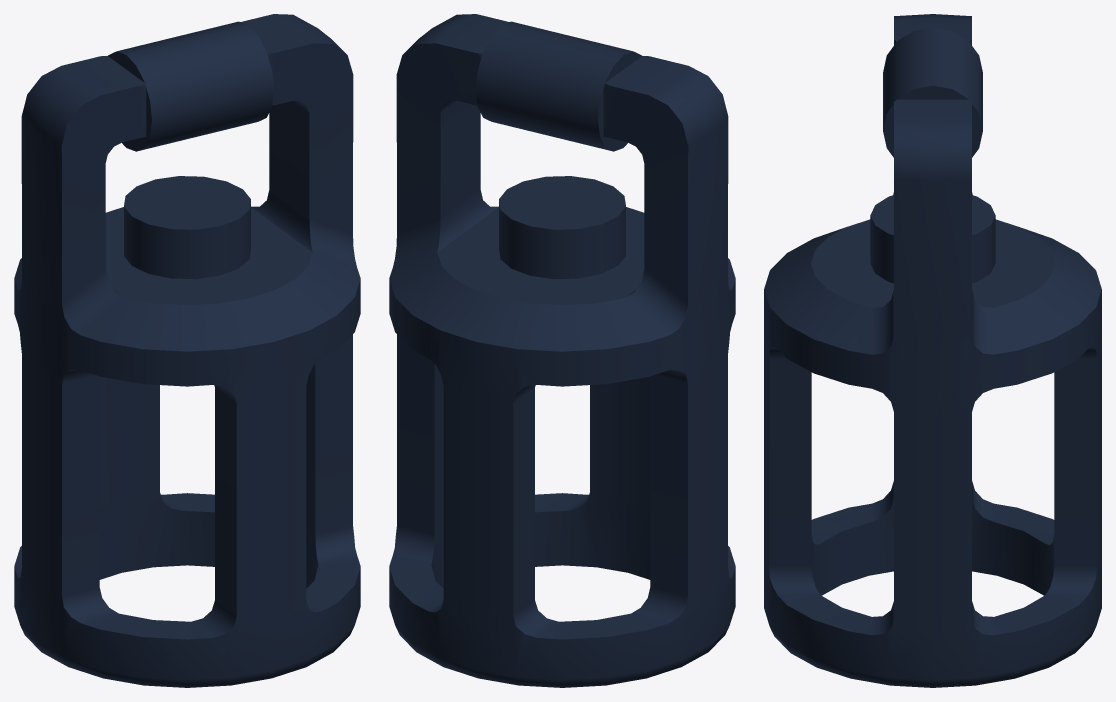
Rendered from Lantern.dae.
3 renders of one model, left to right at view 1: azimuth 30°, elevation 25°; view 2: azimuth 150°, elevation 25°; view 3: azimuth 270°, elevation 25°, orthographic. The views are drawn at different scales.
Parts seen in each view (by area): view 1: Part.0; view 2: Part.0; view 3: Part.0.
Boxes of the visible parts, box(x1,y1,x2,y2) form: Part.0: box(14, 14, 360, 687); Part.0: box(389, 14, 735, 687); Part.0: box(764, 14, 1101, 687).
Bounding box in the file's own units: 10.8 × 19.98 × 10.8.
